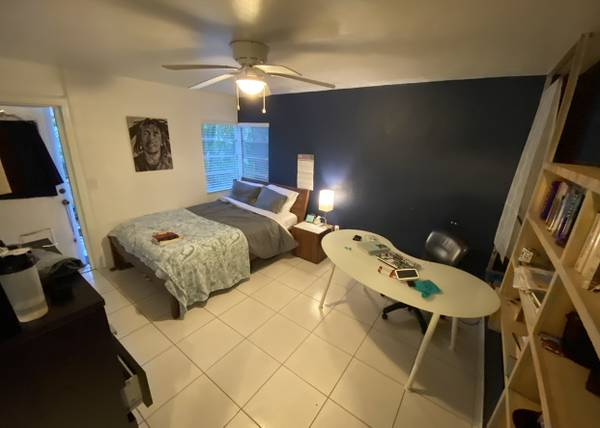bed: (108, 180, 308, 315)
lamp: (317, 188, 335, 227)
night stand: (292, 217, 331, 265)
